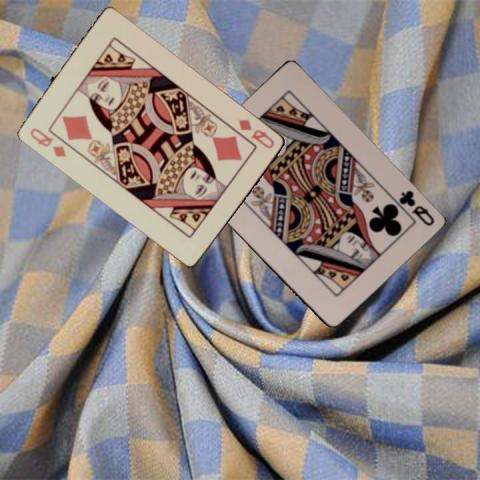Qc: (396, 187, 436, 228)
Qd: (235, 115, 277, 151), (28, 125, 68, 158)
